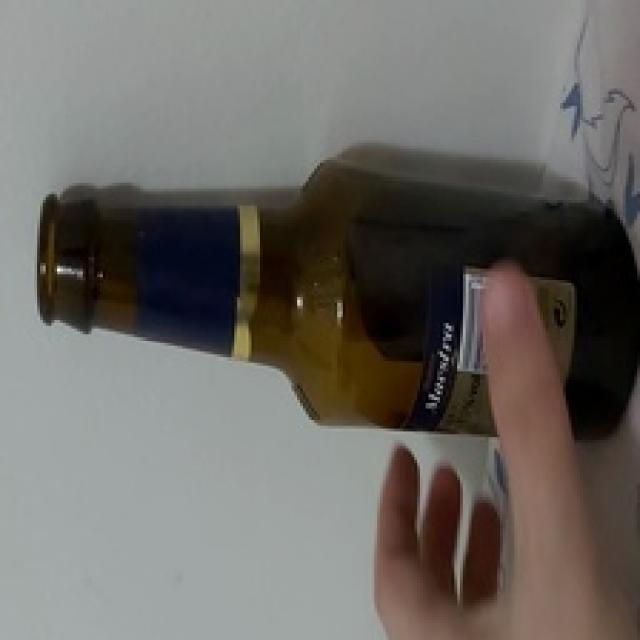Glass: (34, 148, 640, 442)
